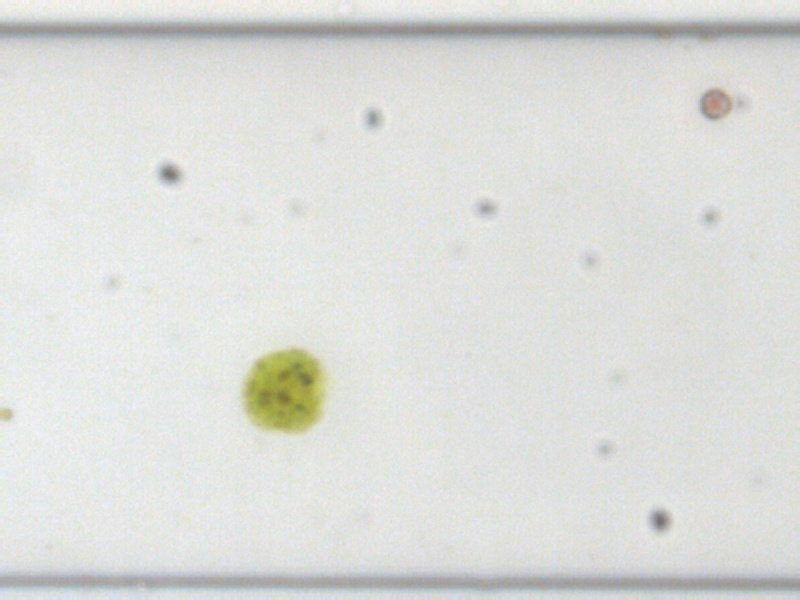Chlorella: (0, 404, 13, 420)
Haematococcus: (235, 343, 330, 437)
Porphyridium: (696, 85, 733, 121)
